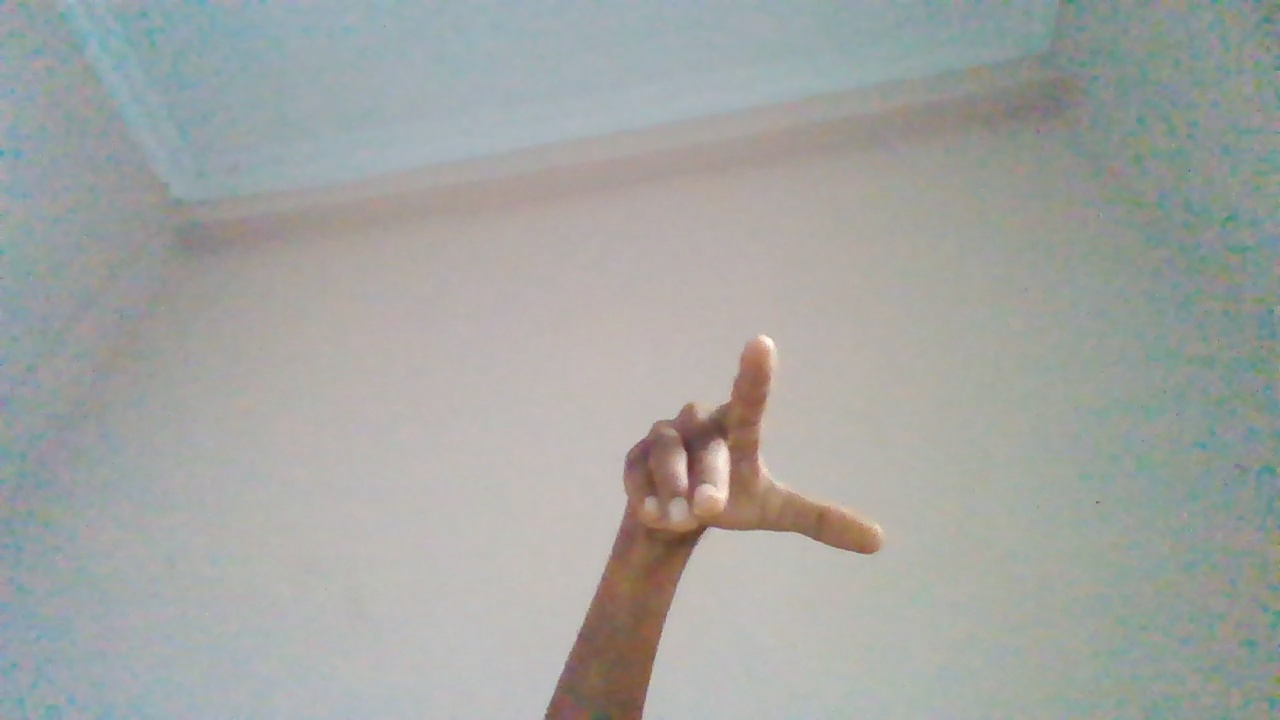ke: (614, 328, 882, 720)
